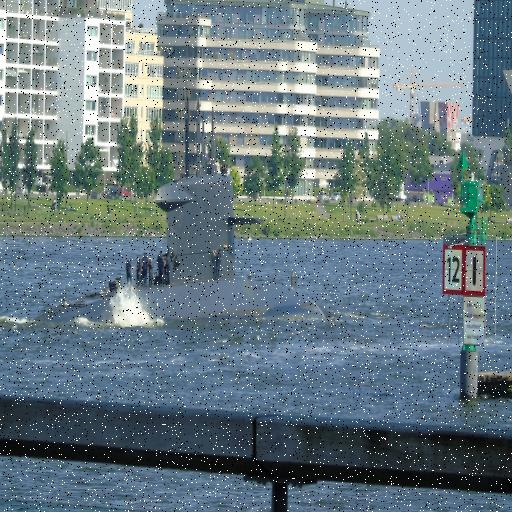submarine: (13, 85, 324, 332)
